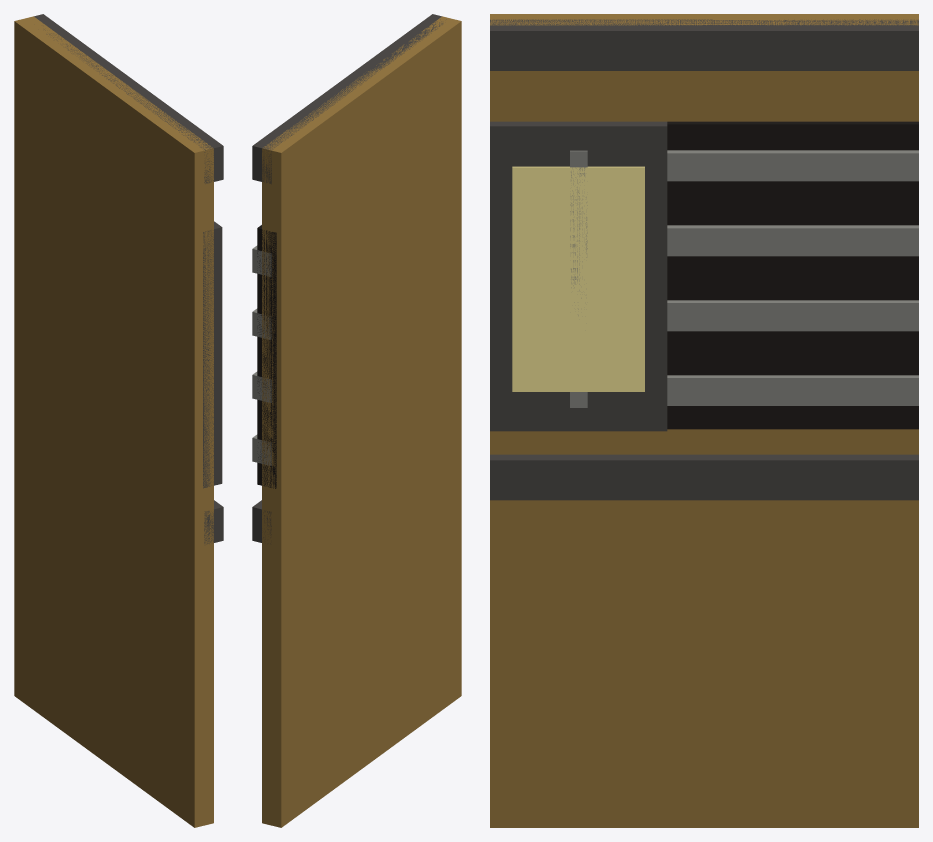
The model's file is nose_light_r.glb.
The picture shows the model from 3 angles, left to right: view 1: azimuth 30°, elevation 25°; view 2: azimuth 150°, elevation 25°; view 3: azimuth 270°, elevation 25°; orthographic projection. The views are drawn at different scales.
Parts seen in each view (by area): view 1: nose_light_r; view 2: nose_light_r; view 3: nose_light_r.
Boxes of the visible parts, x1=… form: nose_light_r: x1=14, y1=14, x2=223, y2=827; nose_light_r: x1=252, y1=14, x2=461, y2=827; nose_light_r: x1=490, y1=14, x2=918, y2=827.
Size of the model in its own units: 0.045 by 1 by 0.484.
